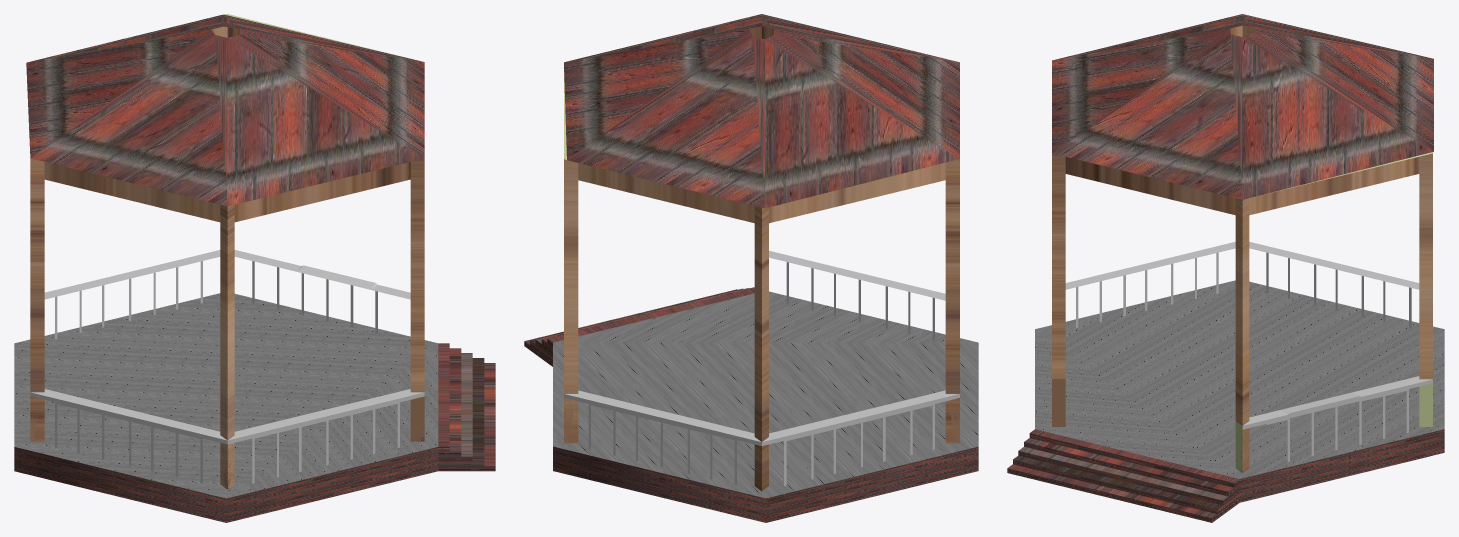
File: kiosko.obj
3 renders of one model, left to right at view 1: azimuth 30°, elevation 25°; view 2: azimuth 150°, elevation 25°; view 3: azimuth 270°, elevation 25°, orthographic. The views are drawn at different scales.
Visible parts, largest first — view 1: Cylinder002; view 2: Cylinder002; view 3: Cylinder002.
Boxes of the visible parts, x1,y1,x2,y2 form: Cylinder002: (14, 14, 495, 522); Cylinder002: (524, 14, 978, 522); Cylinder002: (1007, 14, 1444, 522).
Bounding box in the file's own units: 89.66 × 71.77 × 75.26.
